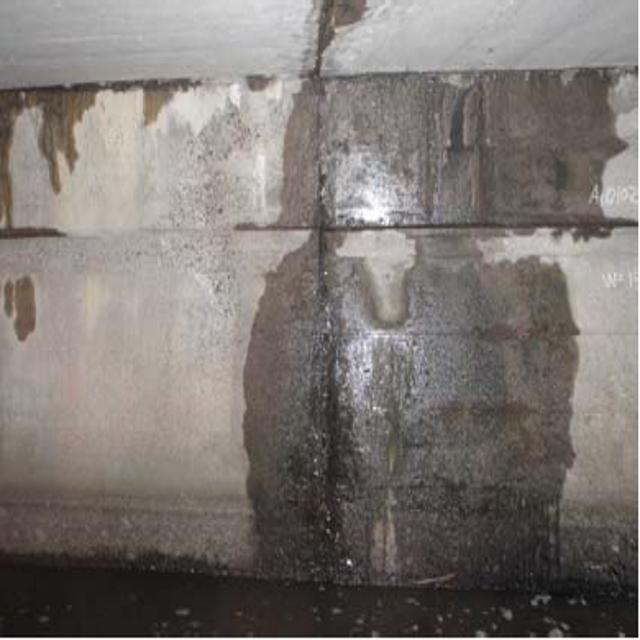leakage: (258, 10, 632, 599), (0, 58, 187, 346)
